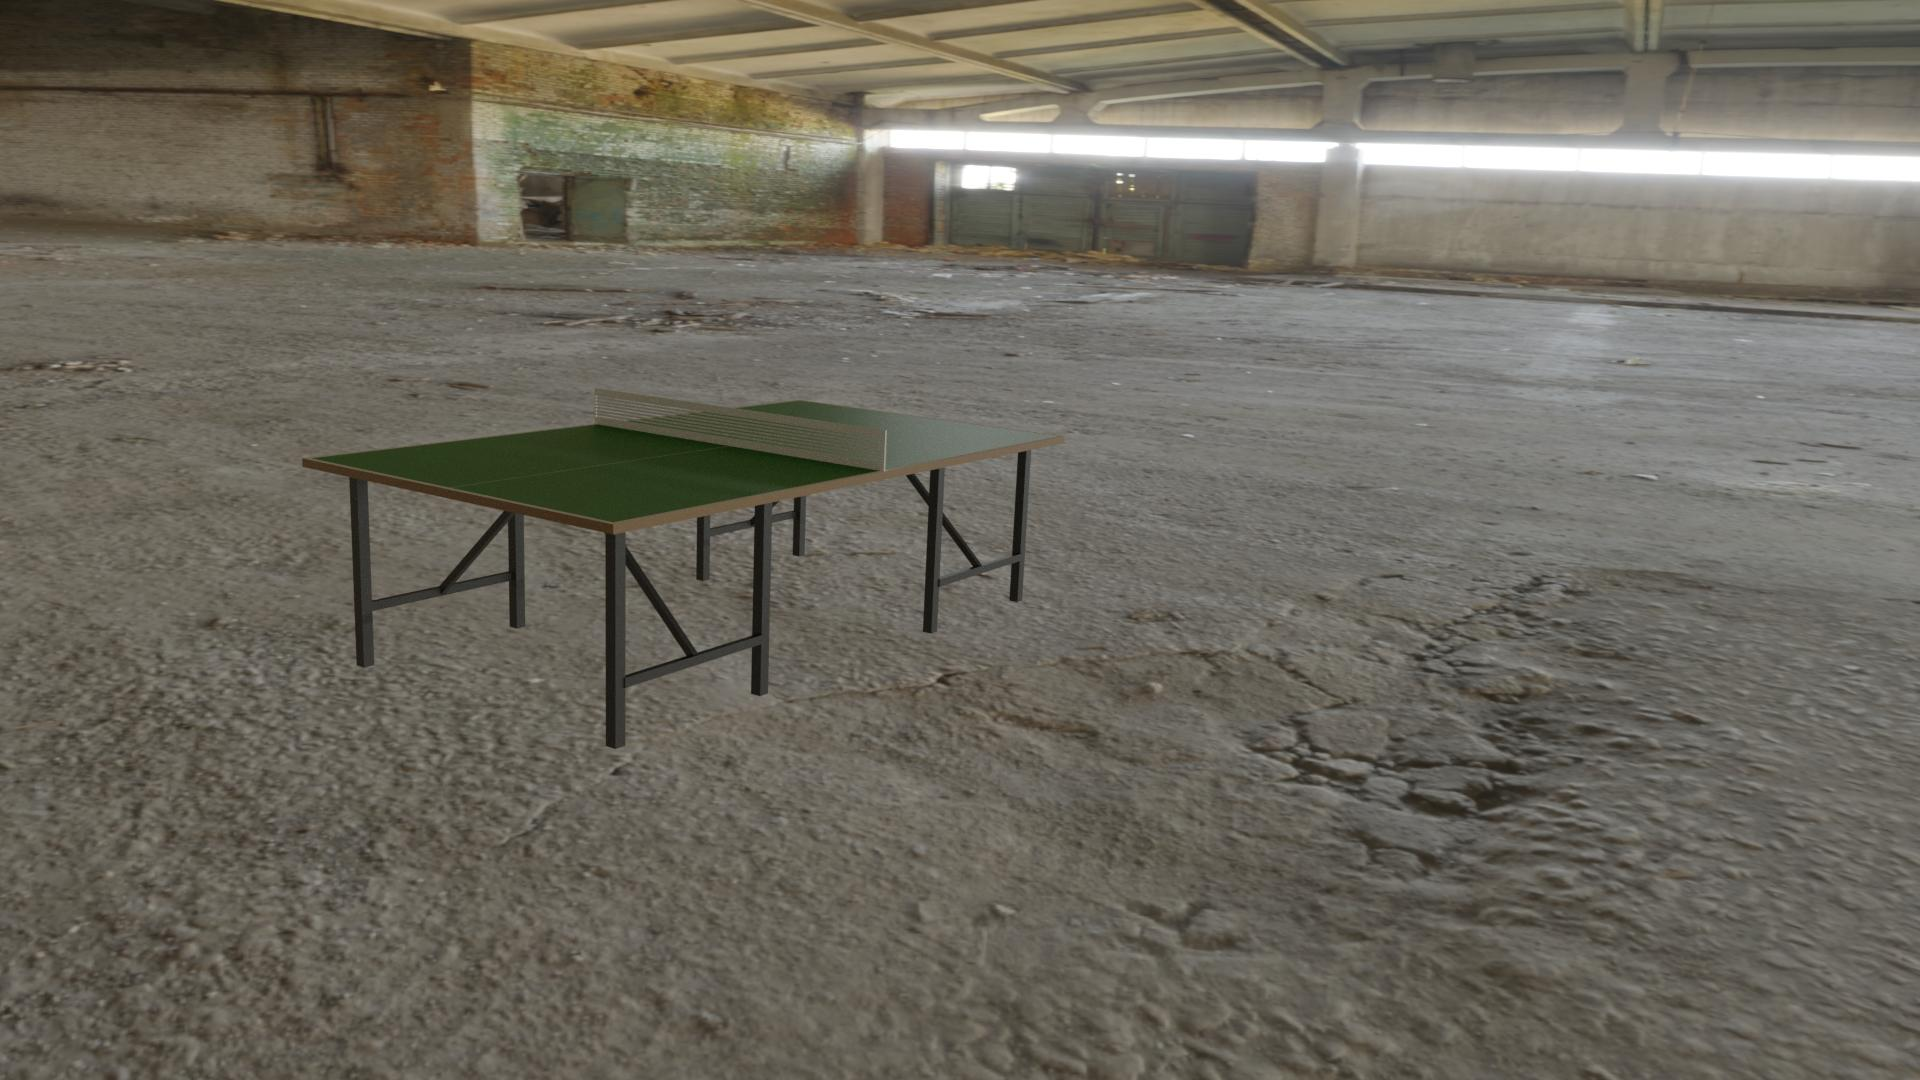table: (311, 401, 1059, 522)
